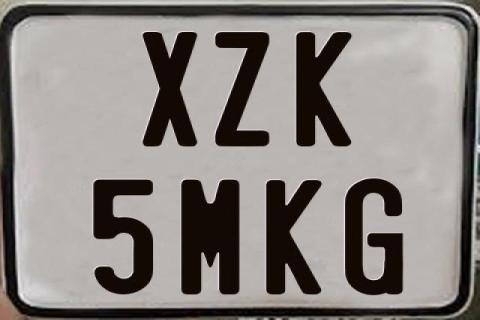0: (90, 178, 150, 294)
G: (344, 176, 404, 294)
K: (266, 178, 326, 298), (293, 32, 354, 150)
M: (181, 180, 242, 300)
X: (142, 32, 200, 150)
Z: (213, 29, 273, 145)
